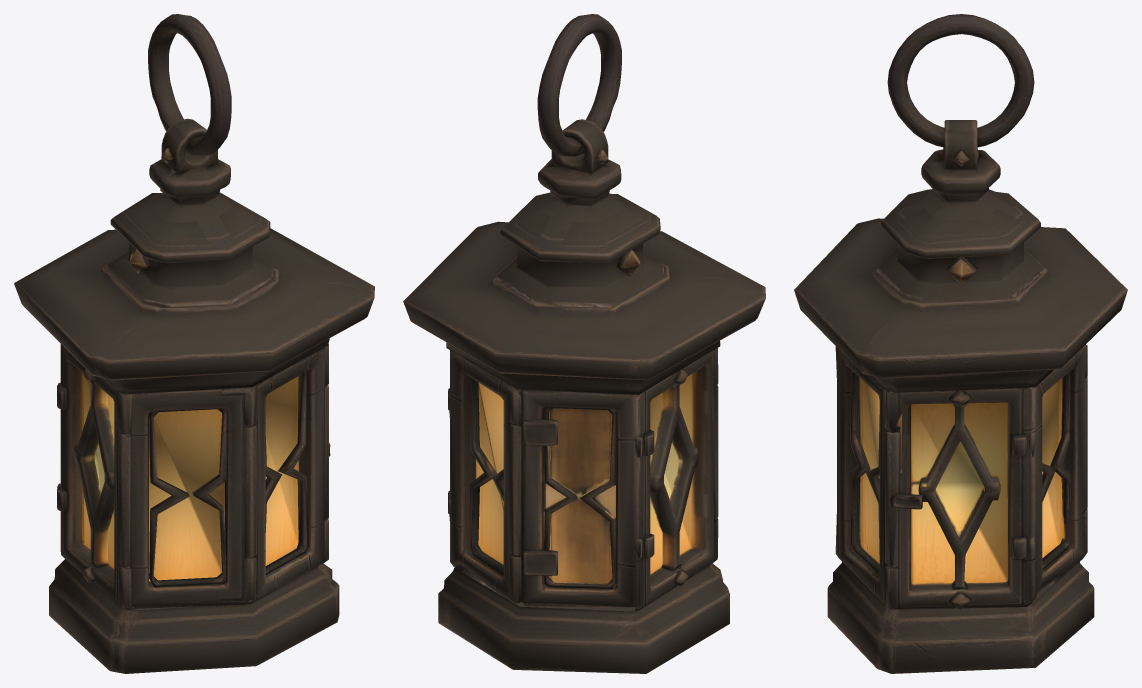
The model's file is lost_lantern_283c6a50.glb.
3 renders of one model, left to right at view 1: azimuth 30°, elevation 25°; view 2: azimuth 150°, elevation 25°; view 3: azimuth 270°, elevation 25°, orthographic.
Parts seen in each view (by area): view 1: tripo_node_31c3f26e-96bc-459a-844e-56777c67fc76; view 2: tripo_node_31c3f26e-96bc-459a-844e-56777c67fc76; view 3: tripo_node_31c3f26e-96bc-459a-844e-56777c67fc76.
Boxes of the visible parts, x1,y1,x2,y2 form: tripo_node_31c3f26e-96bc-459a-844e-56777c67fc76: [14, 14, 374, 673]; tripo_node_31c3f26e-96bc-459a-844e-56777c67fc76: [403, 14, 765, 673]; tripo_node_31c3f26e-96bc-459a-844e-56777c67fc76: [794, 14, 1127, 673].
Size of the model in its own units: 0.502 by 0.998 by 0.502.
1 material, 1 textured.
